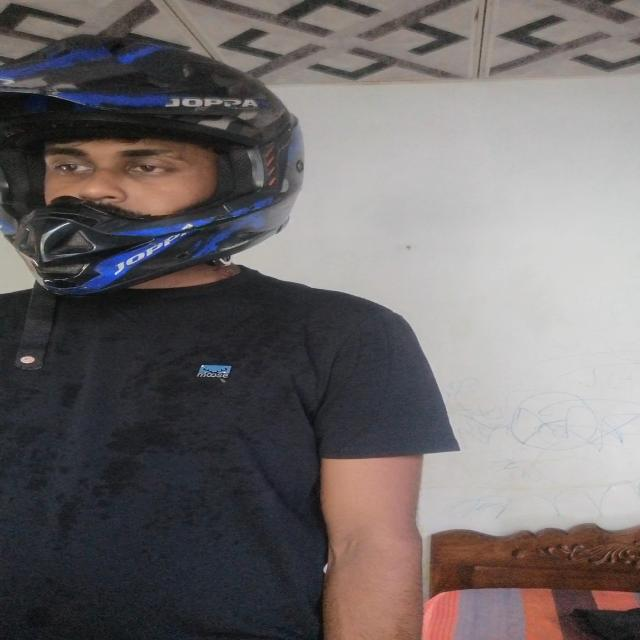Helmet_Wearer: (0, 40, 307, 295)
Person: (9, 31, 458, 640)
